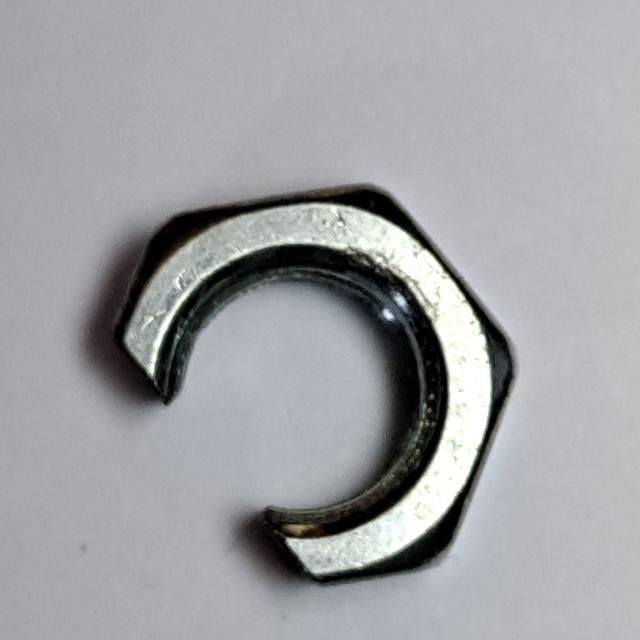Fracture: (98, 168, 536, 601)
